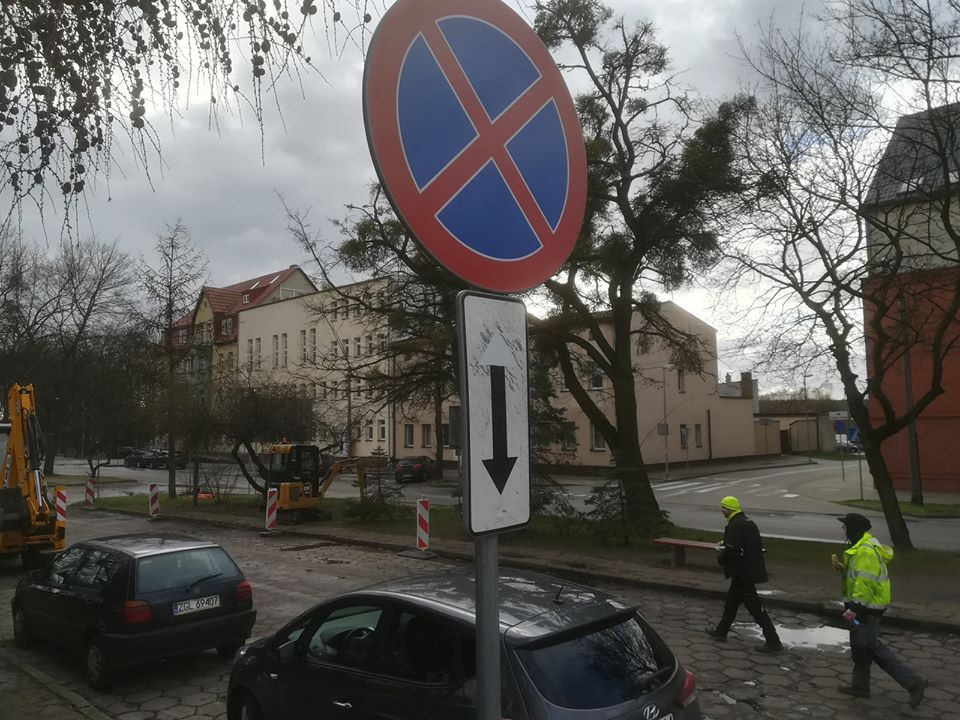no_stopping_sign: (360, 1, 591, 294)
